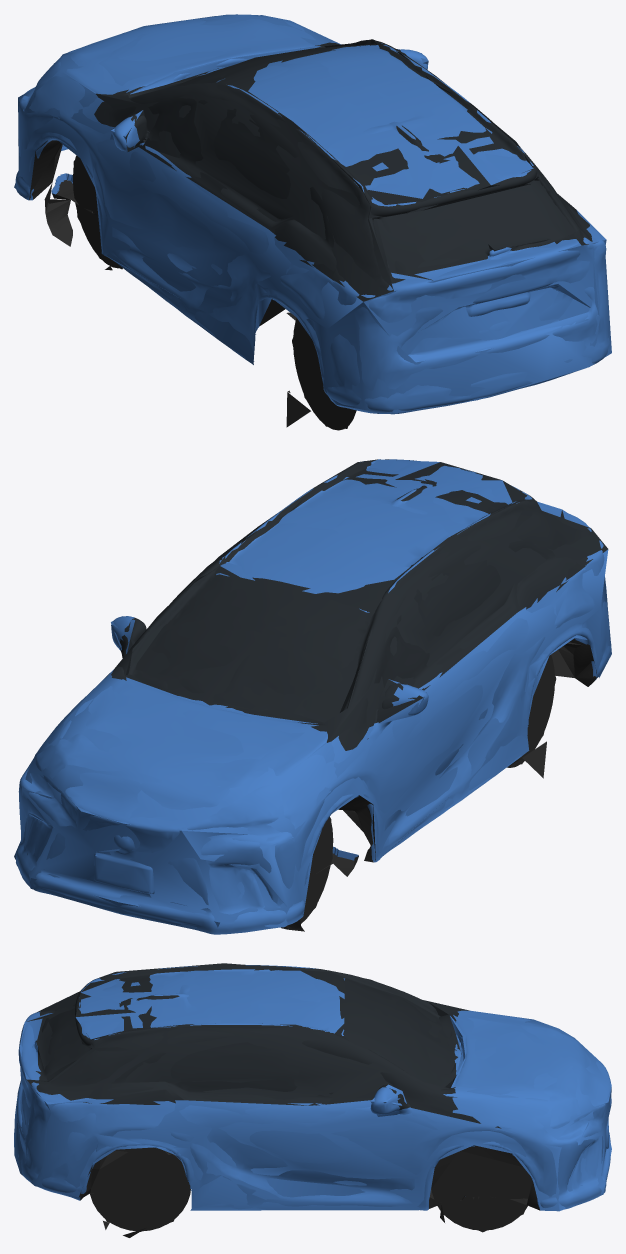
File: lexus-rx.glb
The picture shows the model from 3 angles, top to bottom: view 1: azimuth 30°, elevation 25°; view 2: azimuth 150°, elevation 25°; view 3: azimuth 270°, elevation 25°; orthographic projection. The views are drawn at different scales.
Visible parts, largest first — view 1: body, far; view 2: body, far; view 3: body, far.
Boxes of the visible parts, x1,y1,x2,y2 form: body: (15,14,609,430); far: (14,15,611,428); body: (16,459,611,934); far: (14,459,611,929); body: (14,964,611,1237); far: (14,963,611,1232).
Size of the model in its own units: 2.3 by 1.85 by 4.91.
